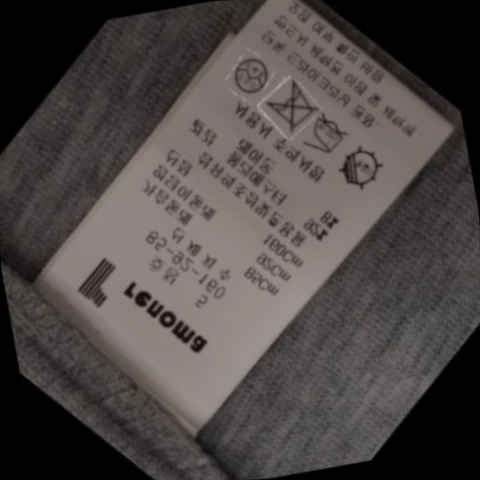DN_wash: (258, 80, 320, 135)
dry_clean_petrol_only: (225, 50, 274, 98)
iron_low: (299, 112, 354, 161)
line_dry_in_shade: (328, 143, 387, 195)
